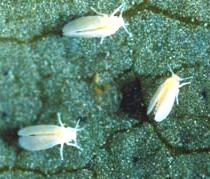whitefly: (16, 111, 86, 159), (60, 2, 130, 44), (147, 64, 192, 123)
